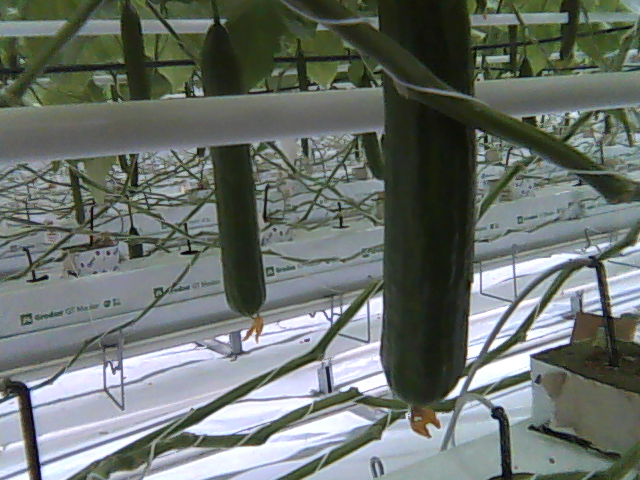concombre: (378, 1, 478, 446)
